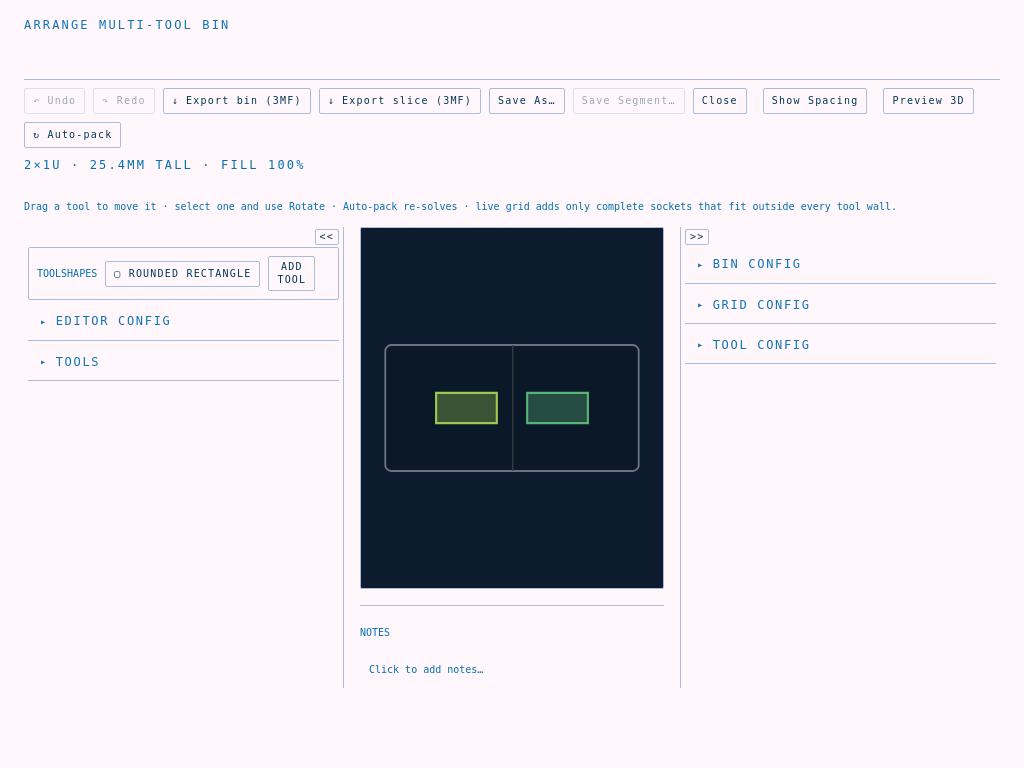
Test: CombineEditor notes › undo restores the previous notes text
Click the button with aria-label "Bin notes — click to edit": (426, 670) [369,664,483,675]
(page scrolled)
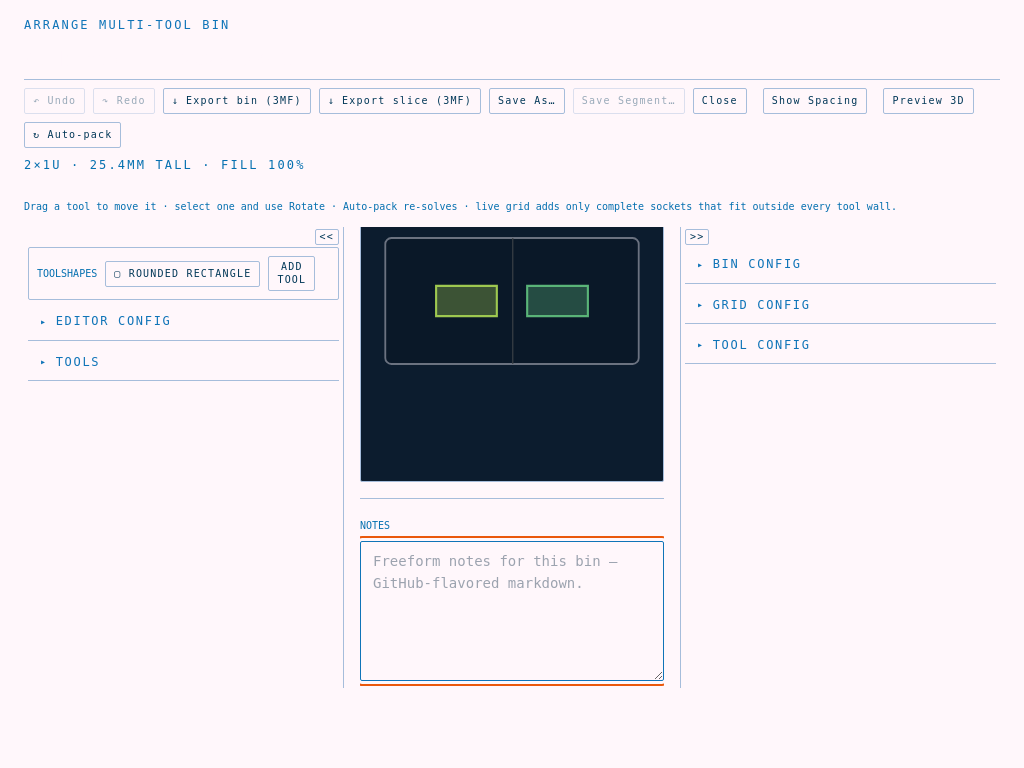
In the text box named "Bin notes": (512, 611) [360,541,664,681], type "first draft"
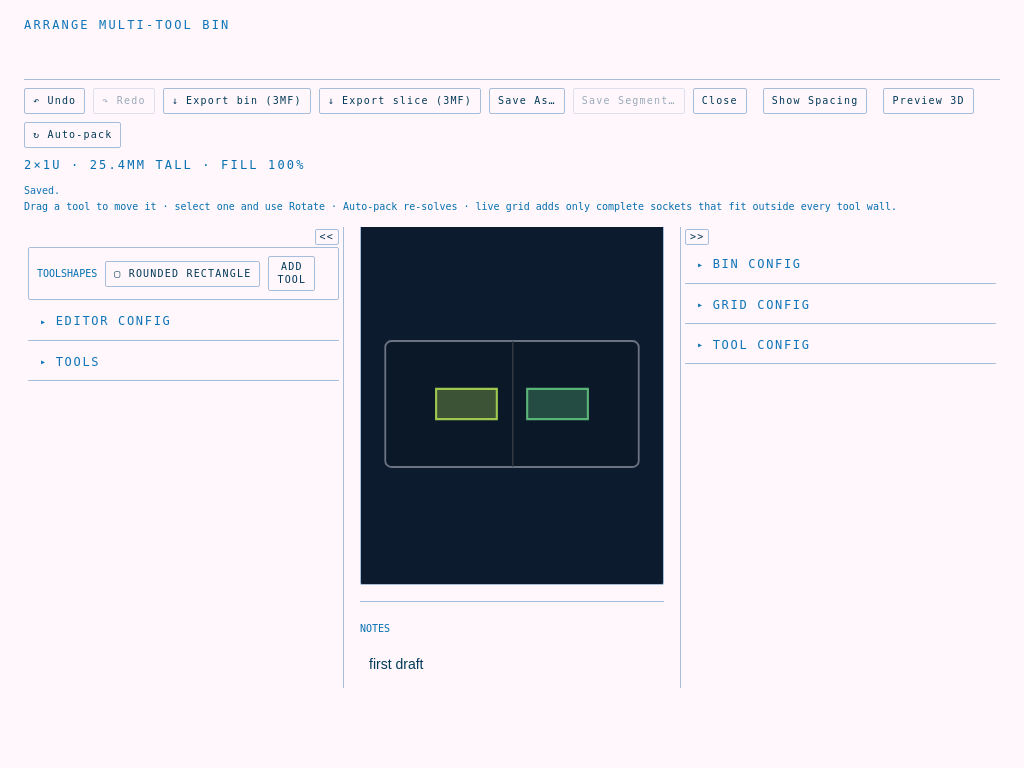
Click the button "↶ Undo": (55, 101) [24,88,85,114]
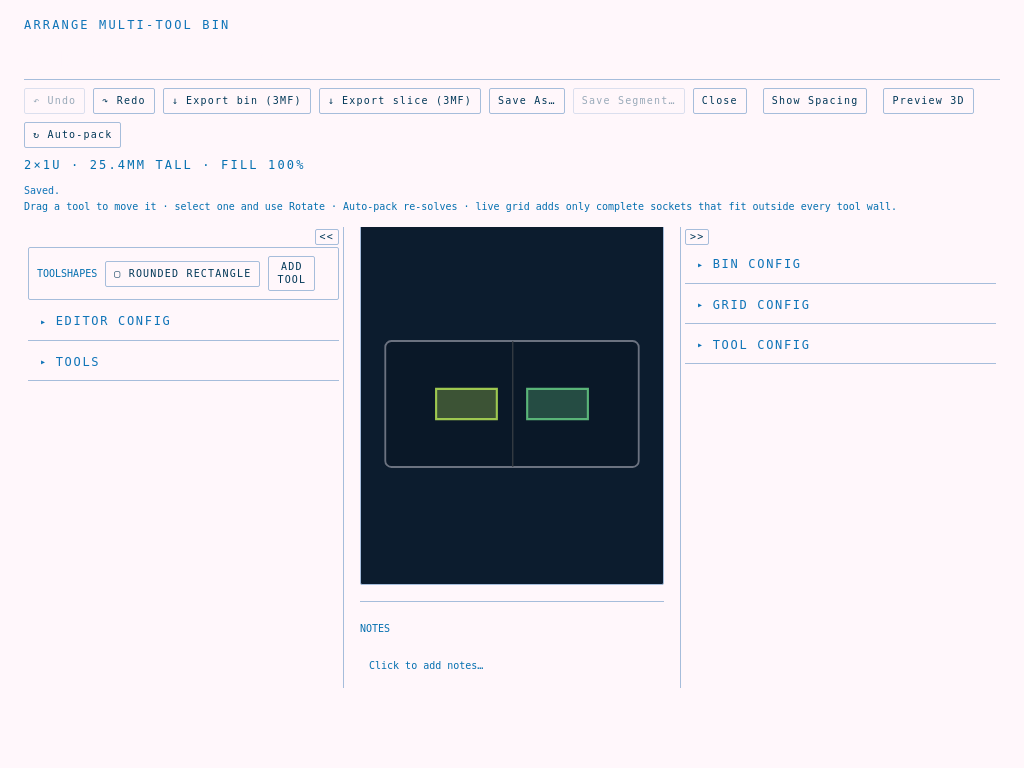
Check: the text "Click to add notes…" is shown, box [369,660,483,671]
